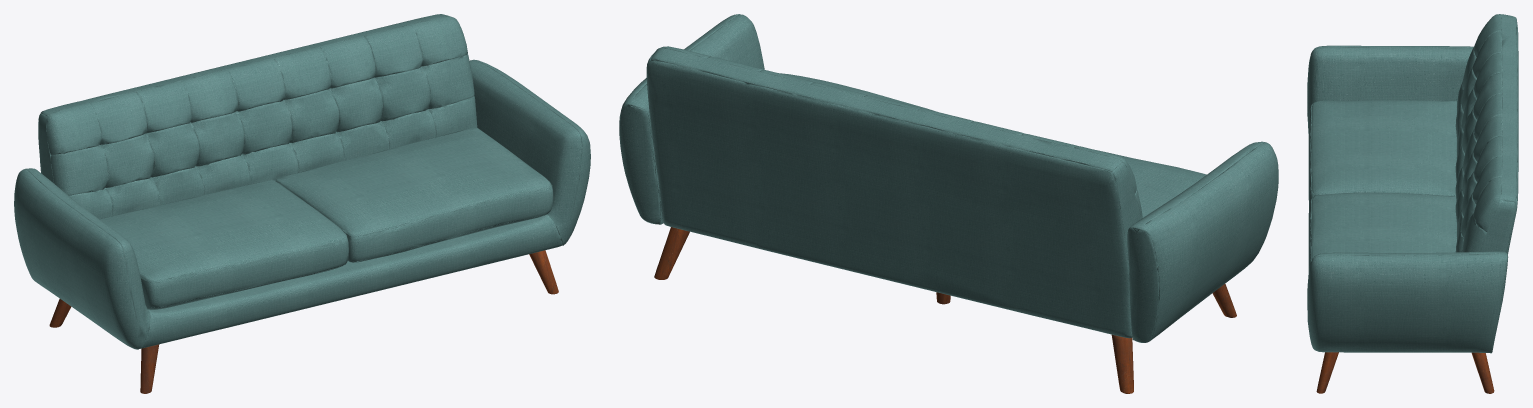
Rendered from LGLY5857_v6_LOD2.obj.
The picture shows the model from 3 angles, left to right: view 1: azimuth 30°, elevation 25°; view 2: azimuth 150°, elevation 25°; view 3: azimuth 270°, elevation 25°; orthographic projection. The views are drawn at different scales.
Parts seen in each view (by area): view 1: not_clear_obj_1_v6, not_clear_obj_2_v6; view 2: not_clear_obj_1_v6, not_clear_obj_2_v6; view 3: not_clear_obj_1_v6, not_clear_obj_2_v6.
Part boxes in pixels (box(x1,y1,x2,y2)): not_clear_obj_1_v6: box(14, 14, 590, 349); not_clear_obj_2_v6: box(49, 250, 558, 393); not_clear_obj_1_v6: box(619, 14, 1278, 342); not_clear_obj_2_v6: box(654, 227, 1236, 393); not_clear_obj_1_v6: box(1307, 14, 1518, 353); not_clear_obj_2_v6: box(1316, 352, 1494, 393).
Size of what is drawn, in the model's own units: 203 by 82.55 by 81.26.
4 materials, 3 textured.
